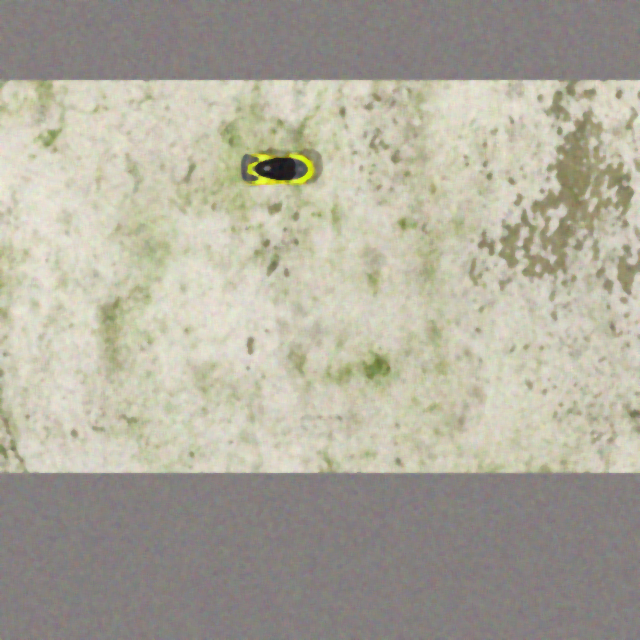car: (240, 151, 314, 187)
